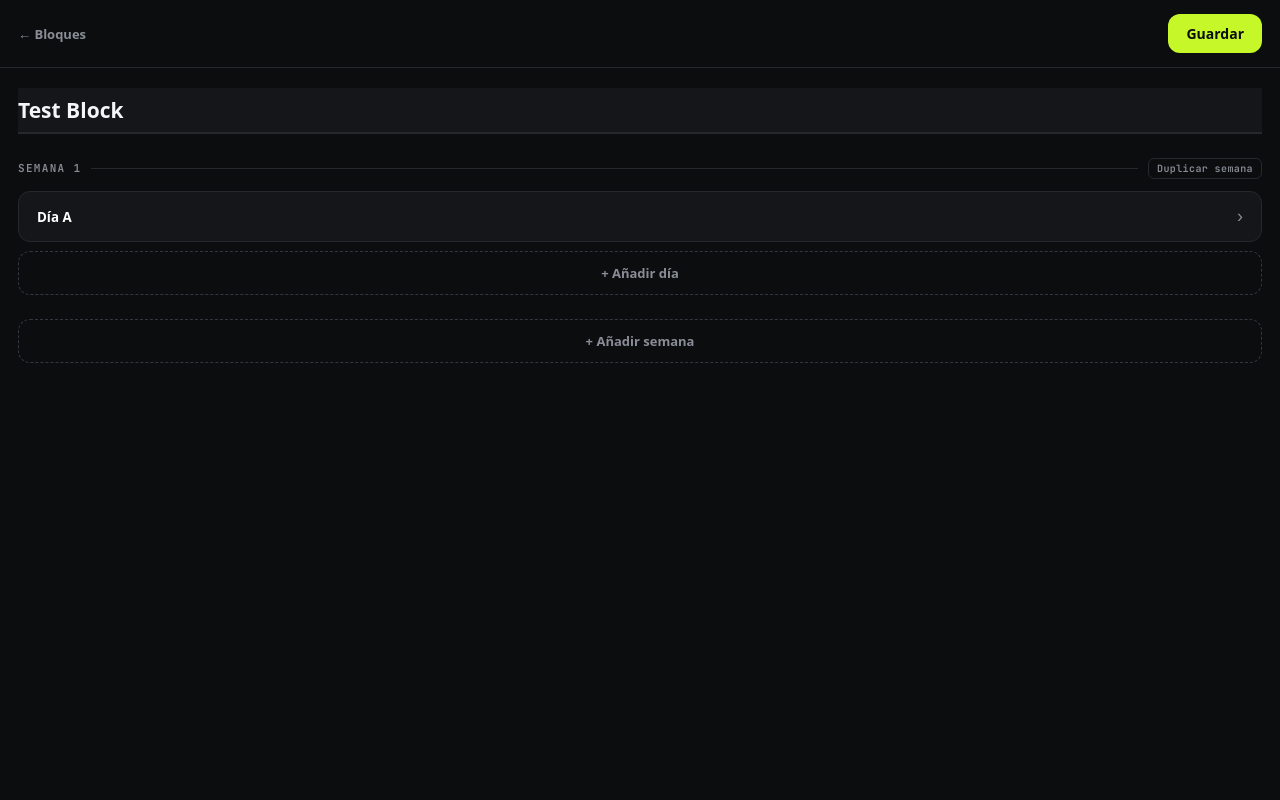
Test: BlockEditorPage › saveDay button closes the day overlay
The image size is (1280, 800).
# Enter day editing mode
Step 1. Click the text "Día A" → [54, 216], box [37,208,72,226]
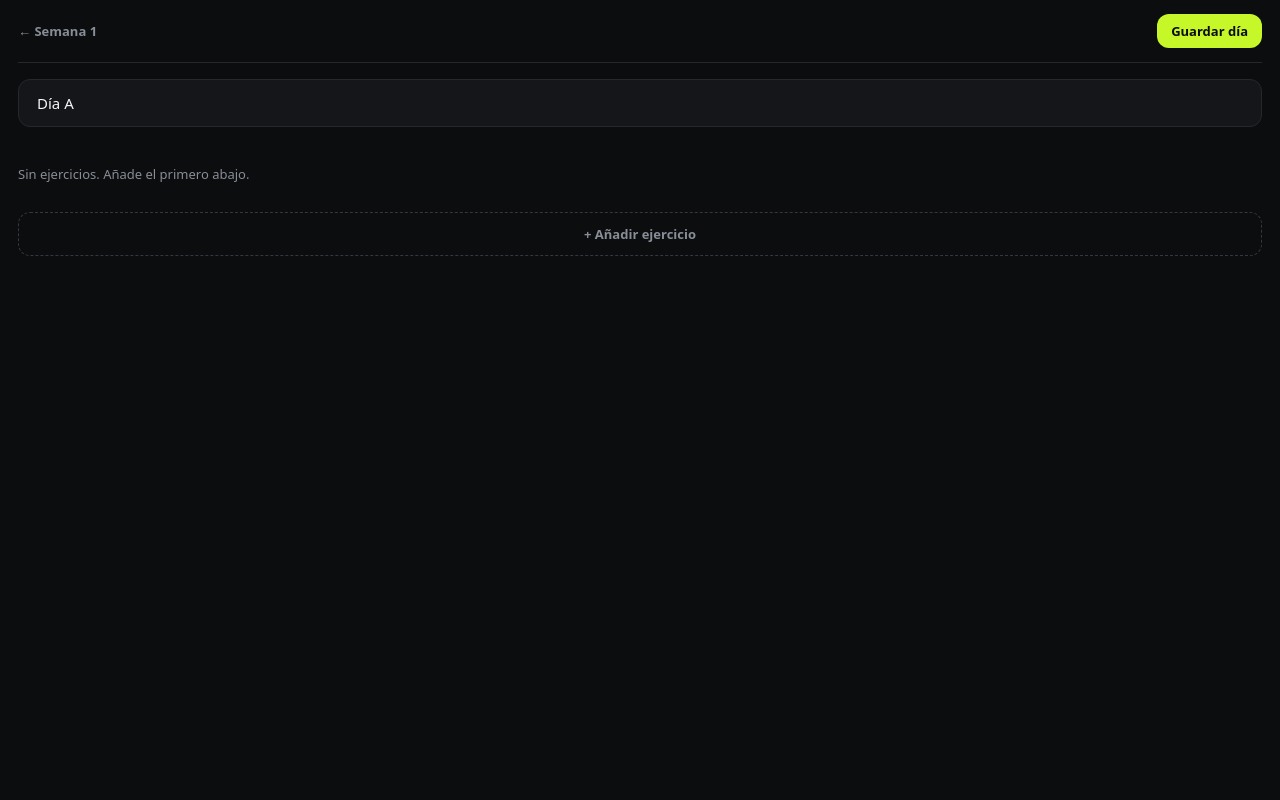
Result: the button "Guardar día" is shown
# Click "Guardar día" — should close overlay
Step 2. Click the button "Guardar día" → [1210, 31], box [1157,14,1262,48]
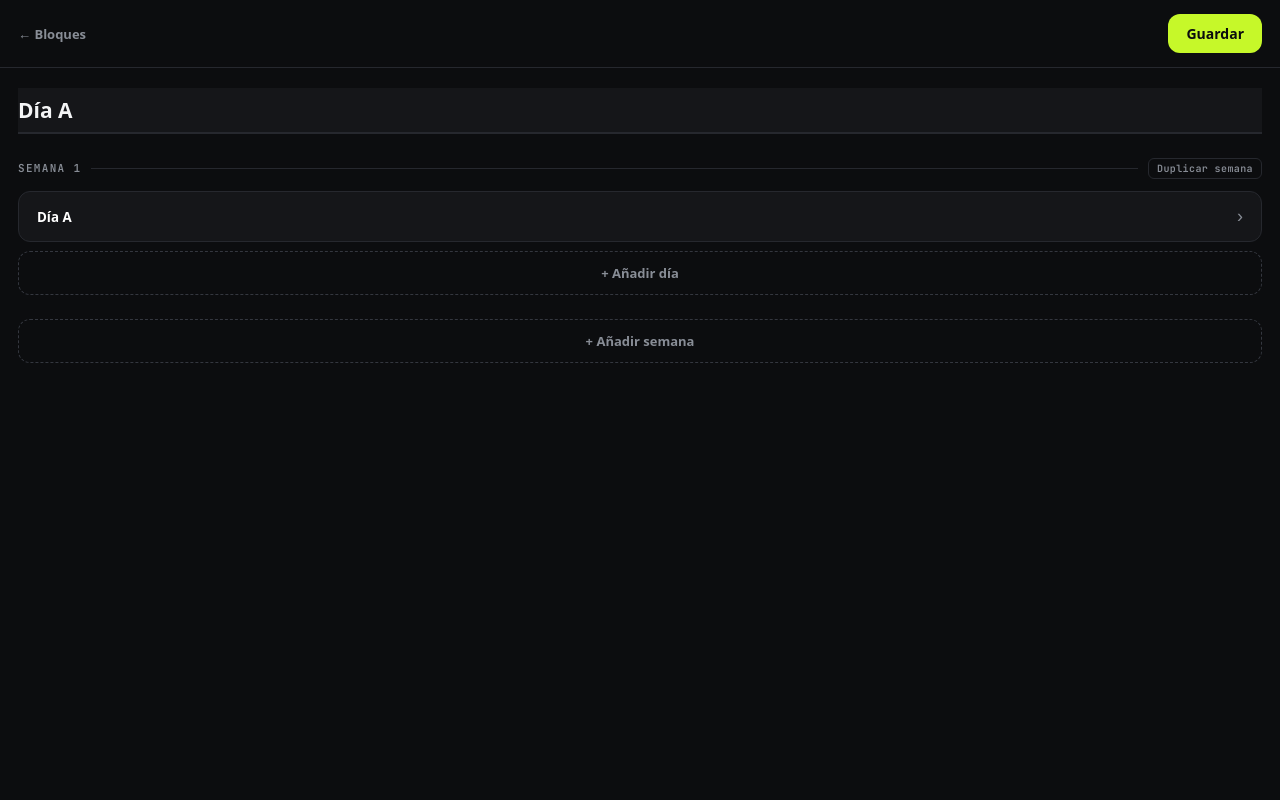
Expected: the button "Guardar" is shown, [1168,14,1262,53]
Result: the button "Guardar día" is gone
